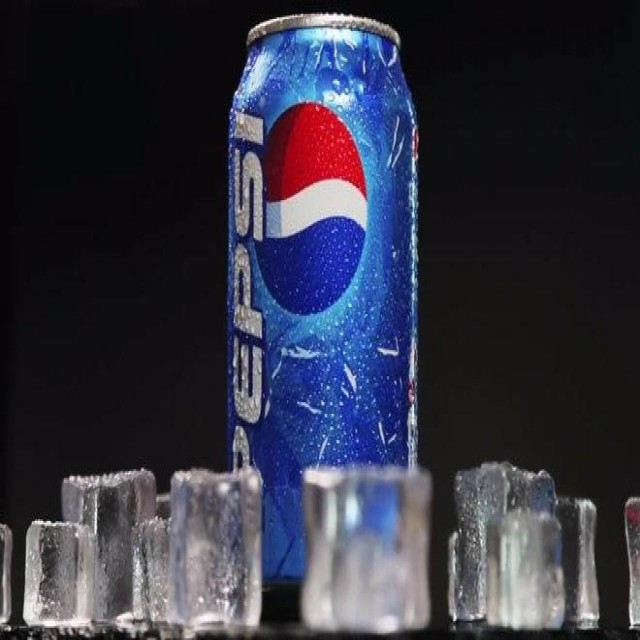pepsi: (252, 100, 369, 321)
